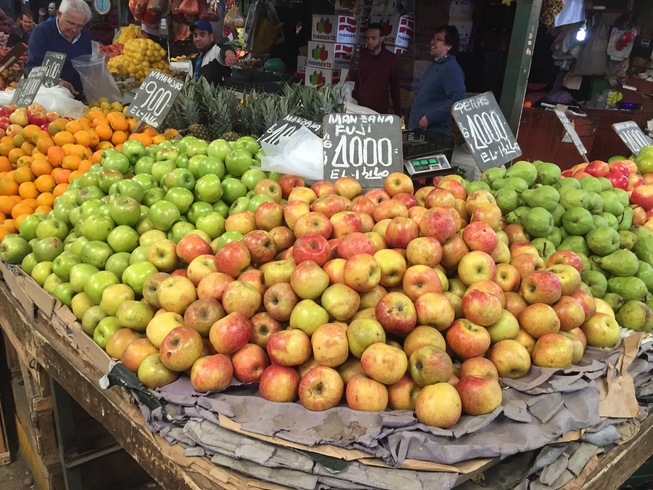precio: (319, 112, 413, 190), (445, 90, 521, 172), (257, 111, 320, 170), (130, 67, 187, 132), (611, 116, 653, 160), (21, 66, 47, 109), (43, 51, 66, 88)
